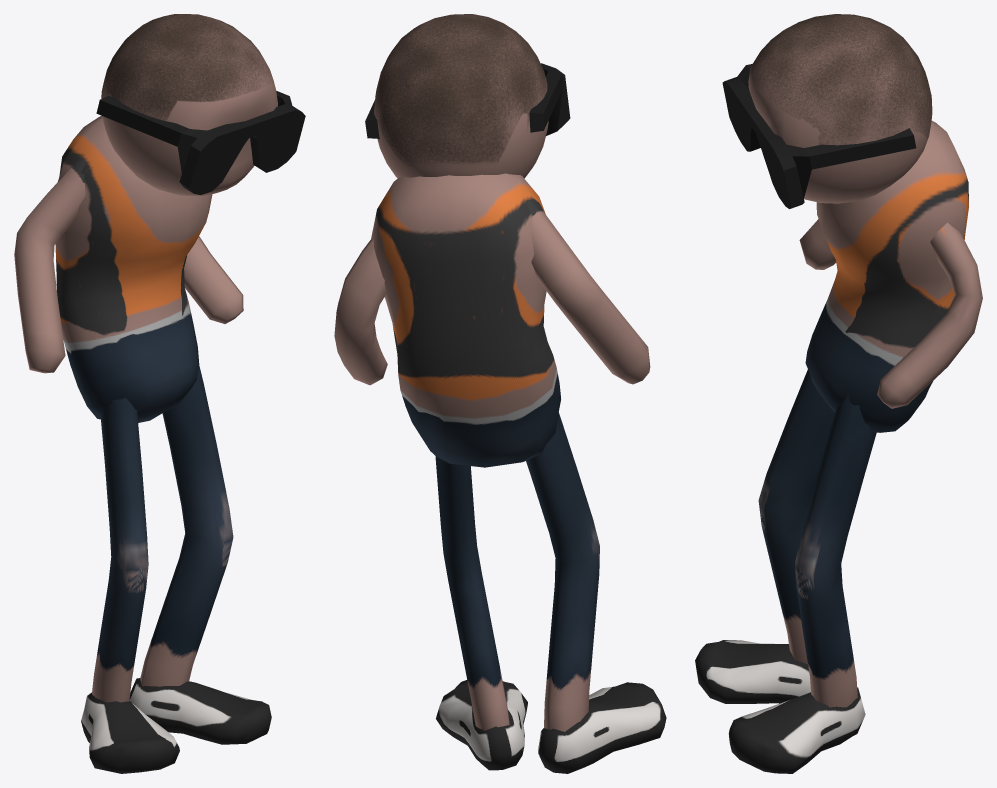
The model's file is rockstar2.glb.
The picture shows the model from 3 angles, left to right: view 1: azimuth 30°, elevation 25°; view 2: azimuth 150°, elevation 25°; view 3: azimuth 270°, elevation 25°; orthographic projection. The views are drawn at different scales.
Parts seen in each view (by area): view 1: rockstar; view 2: rockstar; view 3: rockstar.
Part boxes in pixels (x1,y1,x2,y2): rockstar: (14, 14, 305, 773); rockstar: (334, 14, 666, 773); rockstar: (695, 14, 982, 773).
Bounding box in the file's own units: 25.18 × 64.37 × 22.9.
1 material, 1 textured.
